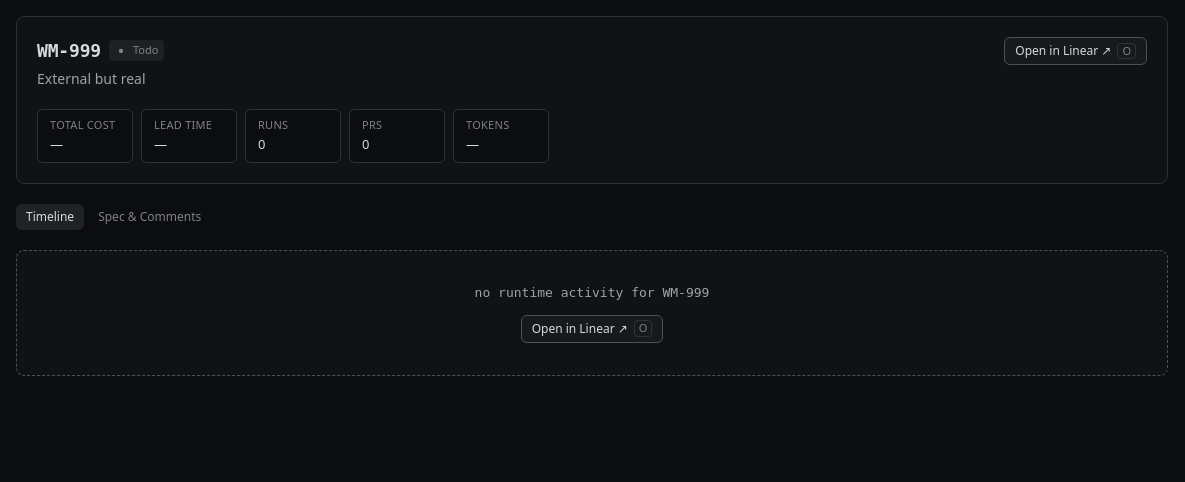
Scenario: Ticket journey view › an unindexed id Linear still knows shows the live title and spec tab
Check: the heading "WM-999" is shown, box [37, 37, 101, 64]
Check: the text "External but real" is shown, box [37, 68, 164, 89]
Click the tab "Spec & Comments" at (150, 217), box [88, 204, 211, 230]
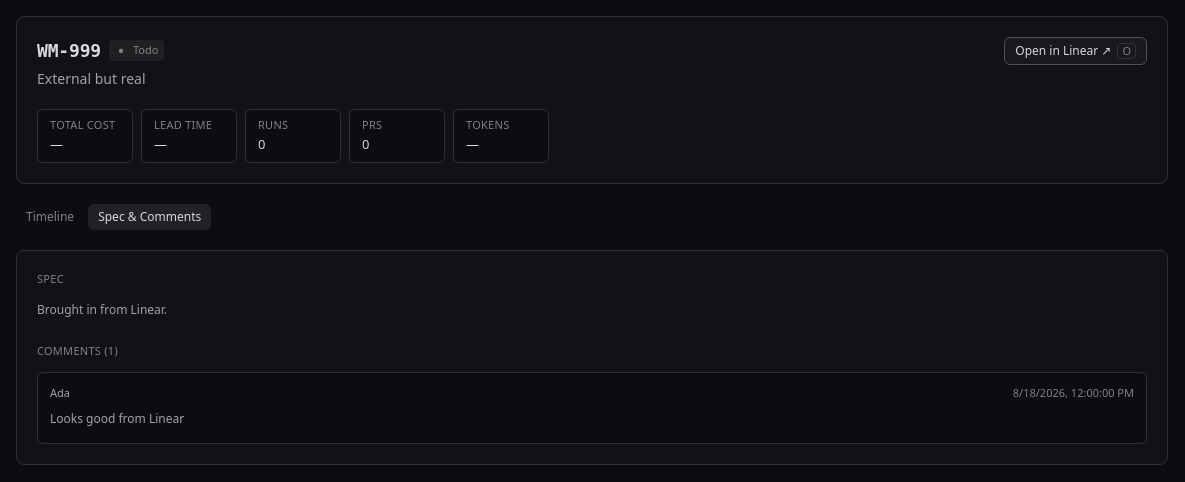
Check: the text "Brought in from Linear." is shown, box [37, 301, 167, 318]
